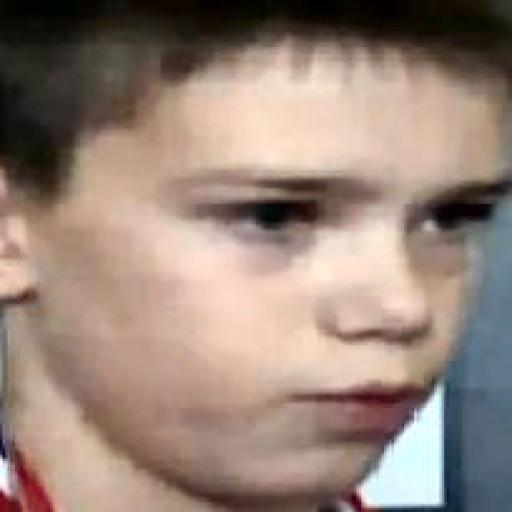Autism: (12, 11, 512, 496)
